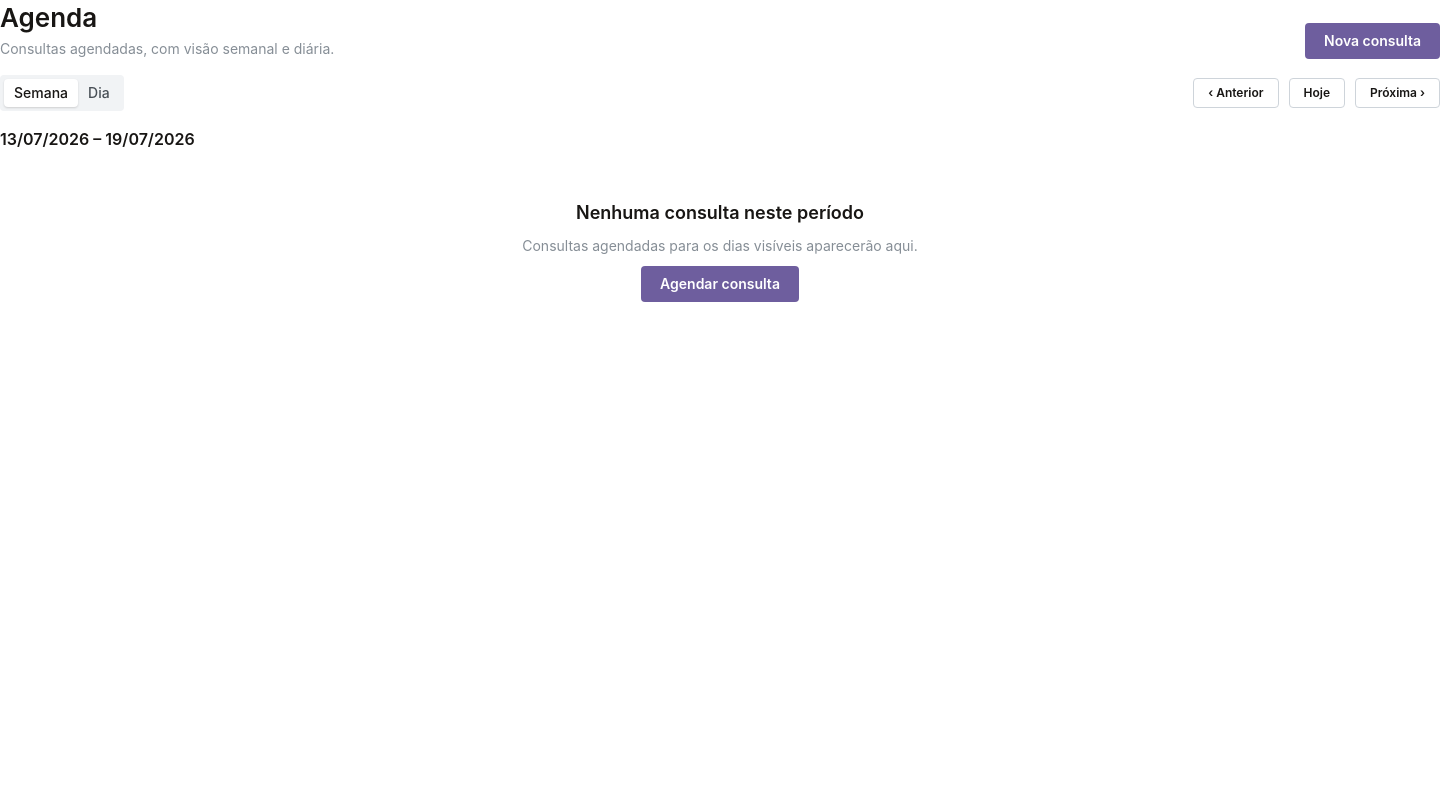
Test: AgendaPage — registrar desfecho (PSI-036) › consulta futura: presença/falta ficam desabilitadas, só remarcação é permitida
The width and height of the screenshot is (1440, 810).
Expected: the heading "Nenhuma consulta neste período" is shown, [576, 200, 864, 226]
Click the button with aria-label "Próximo período" at (1398, 93), box [1355, 78, 1439, 108]
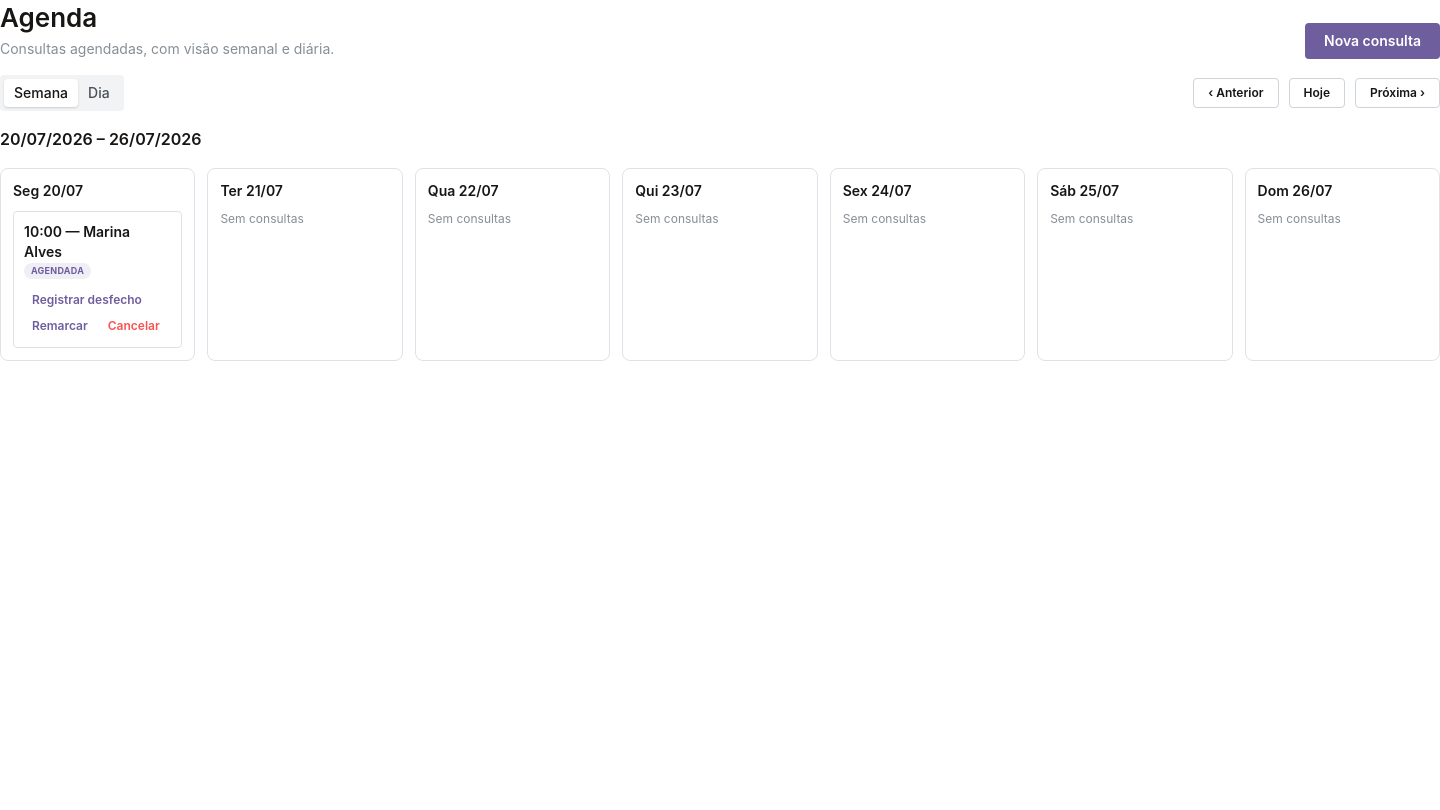
Now the element with test id "agenda-week-view" is shown, box [0, 168, 1439, 361]
Click the button "Registrar desfecho" at (87, 300), box [24, 289, 150, 311]
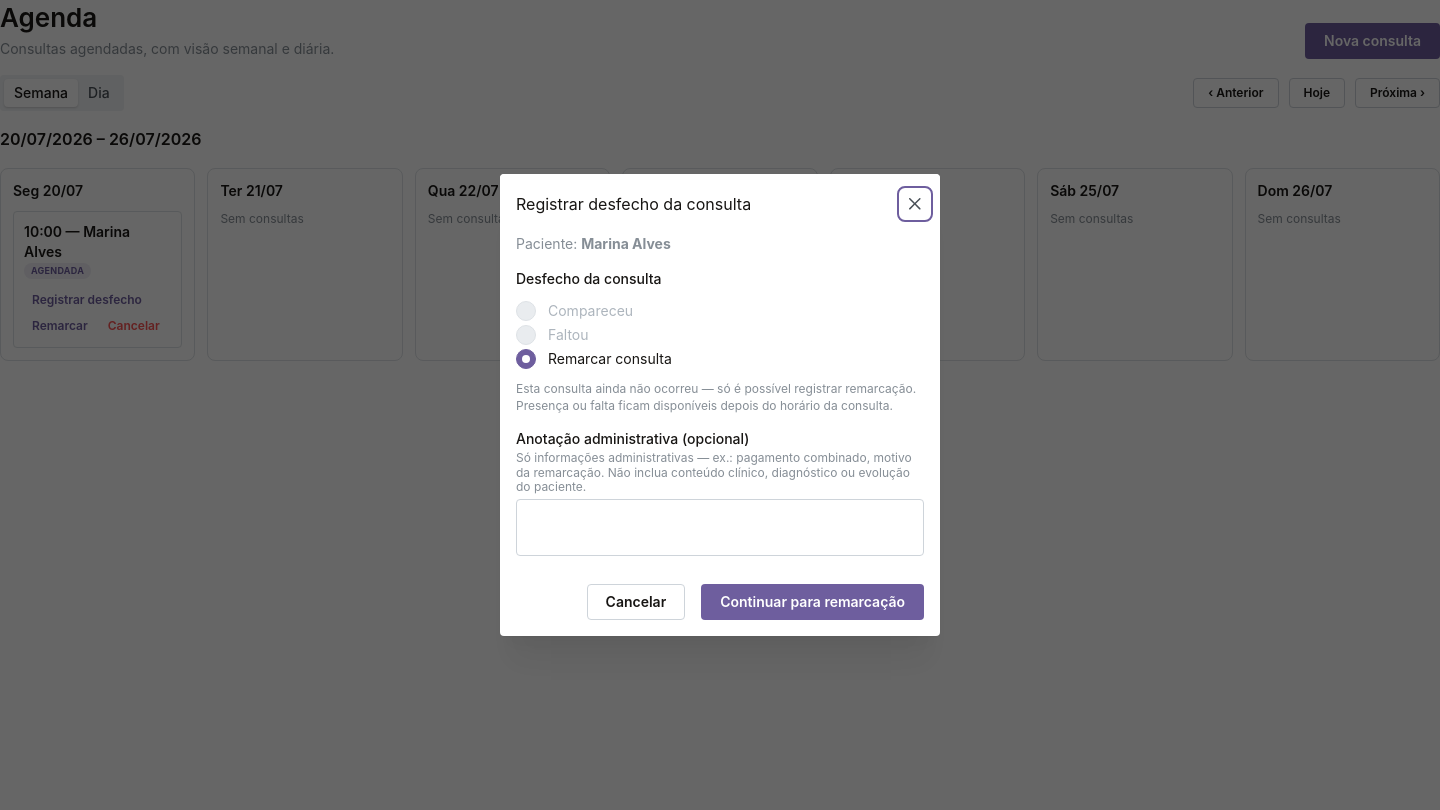
Now the radio button labelled "Compareceu" is disabled, box [516, 301, 536, 321]
Now the radio button labelled "Faltou" is disabled, box [516, 325, 536, 345]
Now the radio button labelled "Remarcar consulta" is checked, box [516, 349, 536, 369]
